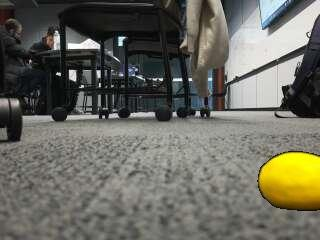lemon: (258, 152, 320, 210)
